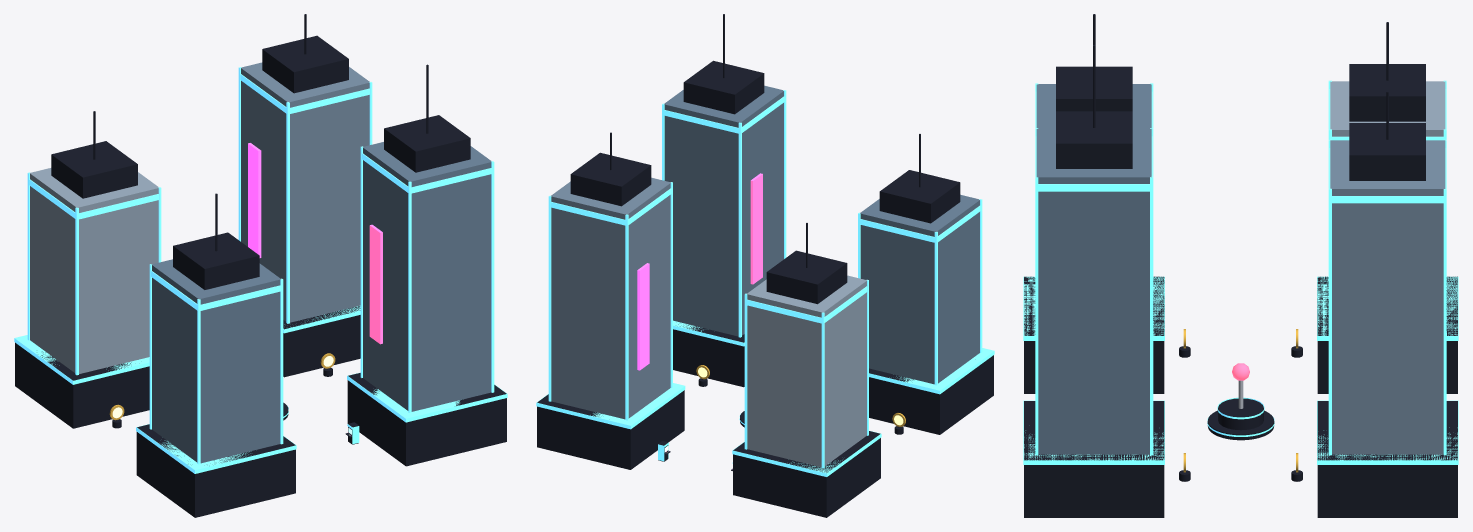
3 renders of one model, left to right at view 1: azimuth 30°, elevation 25°; view 2: azimuth 150°, elevation 25°; view 3: azimuth 270°, elevation 25°, orthographic. The views are drawn at different scales.
Visible parts, largest first — view 1: district_city_arcade.lod0; view 2: district_city_arcade.lod0; view 3: district_city_arcade.lod0.
Part boxes in pixels (x1,y1,x2,y2): district_city_arcade.lod0: (14, 14, 507, 517); district_city_arcade.lod0: (536, 14, 994, 517); district_city_arcade.lod0: (1023, 14, 1458, 517).
Size of the model in its own units: 34.1 by 38.29 by 34.1.
